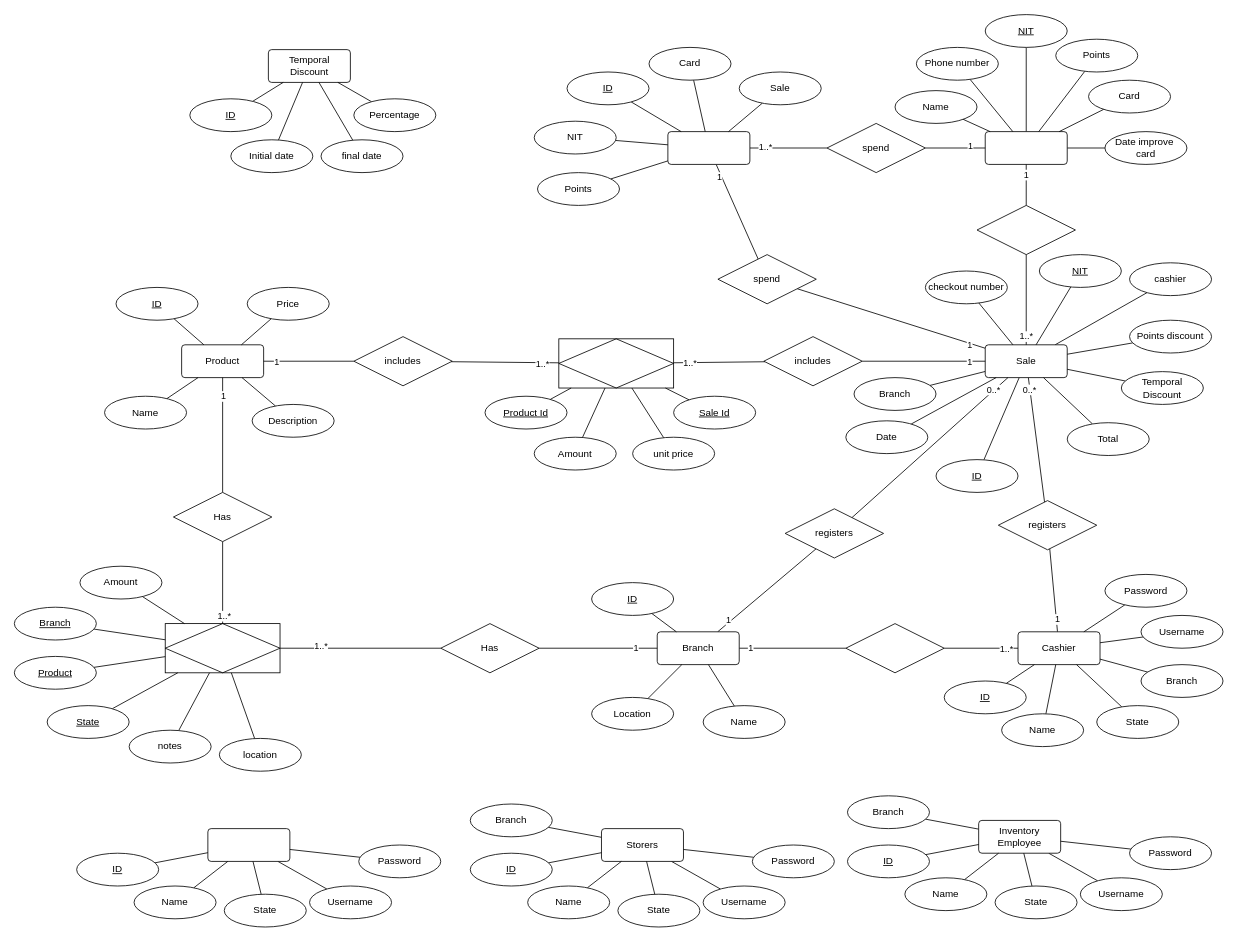
Some shapes in this 1237 by 941 pixel diagram are drawn without their labels. The shapes that lost their labels are listed below. From the top down, each one's centre as x and y in pixels, then its label:
the point at 708,147: Points Usage
the point at 1025,147: Client
the point at 1025,230: buy
the point at 616,363: Sale items
the point at 222,648: Inventory
the point at 894,648: Belongs to
the point at 248,844: Admins
